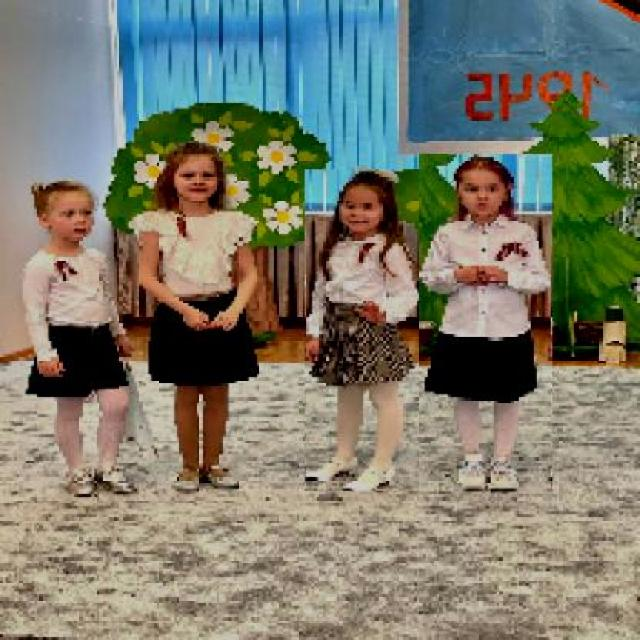child: (127, 144, 262, 493), (418, 154, 552, 495), (303, 170, 423, 493), (22, 182, 138, 498)
